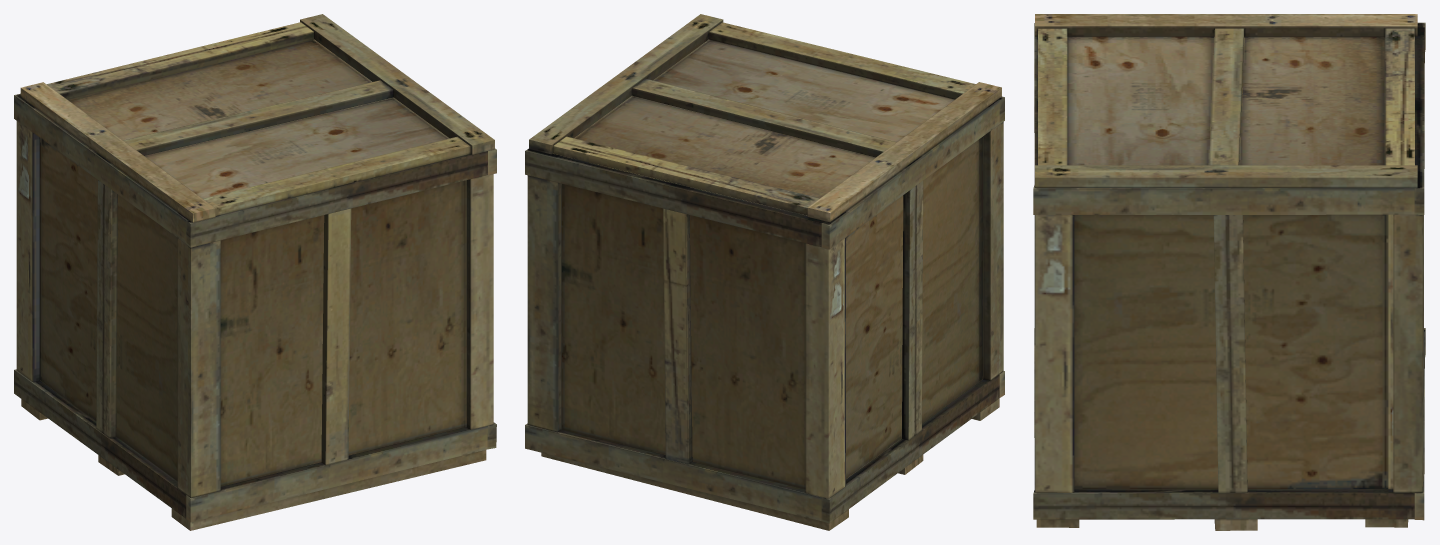
Rendered from wood_crate.glb.
3 renders of one model, left to right at view 1: azimuth 30°, elevation 25°; view 2: azimuth 150°, elevation 25°; view 3: azimuth 270°, elevation 25°, orthographic. The views are drawn at different scales.
Visible parts, largest first — view 1: wood_crate001a.mdl/wood_crate001a_reference.smd_1; view 2: wood_crate001a.mdl/wood_crate001a_reference.smd_1; view 3: wood_crate001a.mdl/wood_crate001a_reference.smd_1.
Boxes of the visible parts, bbox=[...] form: wood_crate001a.mdl/wood_crate001a_reference.smd_1: bbox=[14, 14, 496, 530]; wood_crate001a.mdl/wood_crate001a_reference.smd_1: bbox=[525, 14, 1004, 530]; wood_crate001a.mdl/wood_crate001a_reference.smd_1: bbox=[1033, 14, 1425, 530].
Bounding box in the file's own units: 0.4021 × 0.4002 × 0.4017.
1 material, 1 textured.
